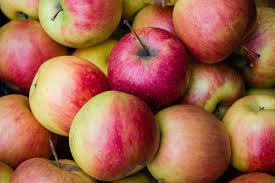apple: (68, 96, 157, 172), (107, 30, 195, 104), (150, 109, 236, 183), (27, 60, 111, 129), (171, 2, 248, 70), (185, 57, 253, 126), (36, 3, 117, 50), (229, 96, 275, 170), (1, 95, 54, 156)
